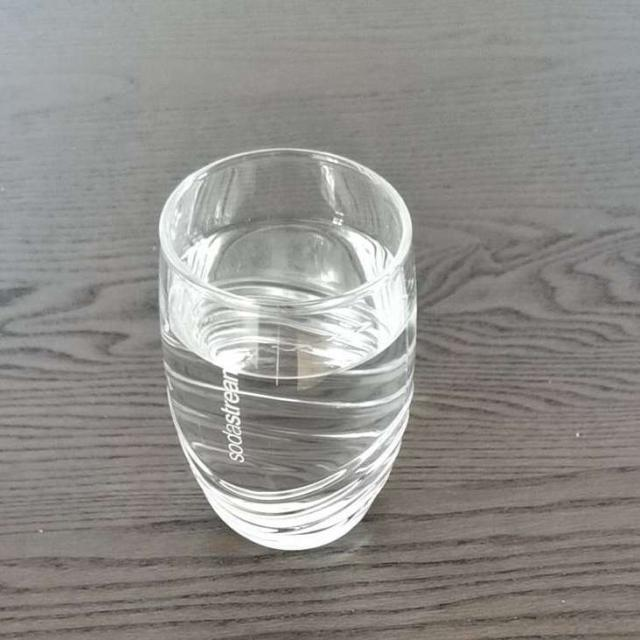water: (147, 226, 414, 544)
